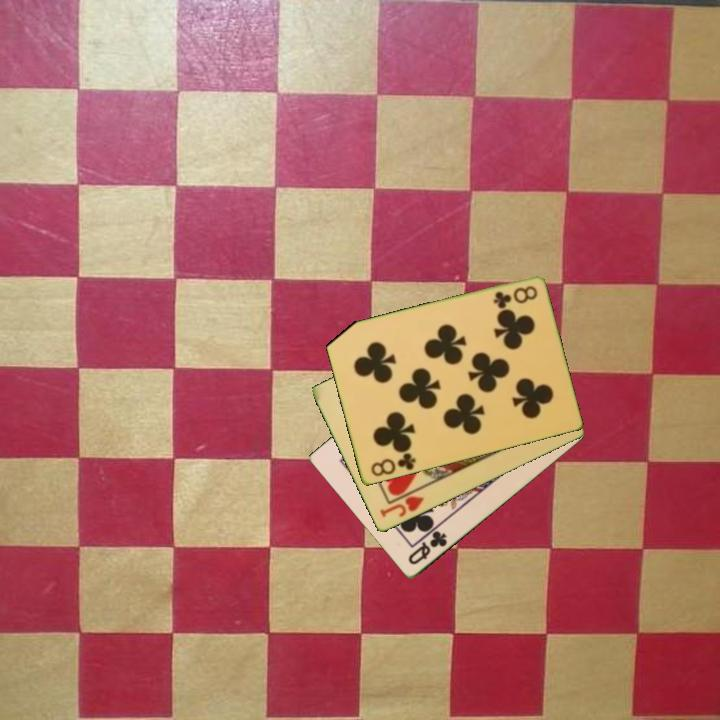8c: (367, 449, 418, 480), (489, 282, 540, 311)
Jh: (376, 493, 427, 521)
Qc: (405, 527, 450, 568)
